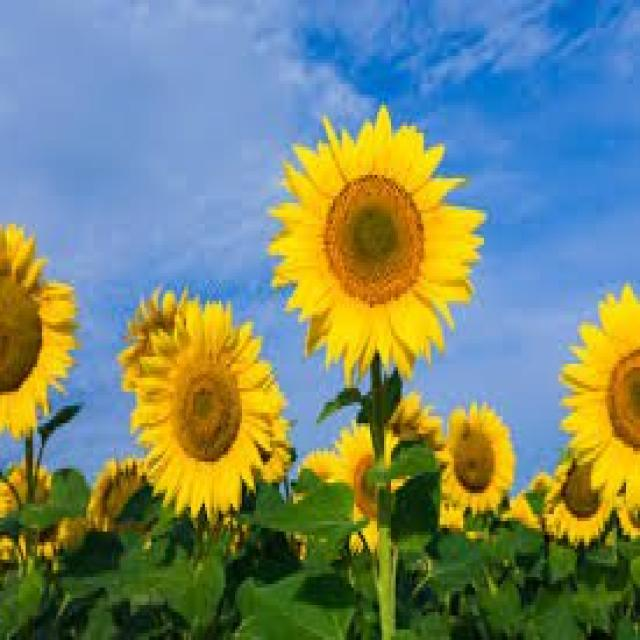sunflower: (257, 105, 490, 402), (114, 299, 286, 526), (554, 276, 640, 521), (0, 227, 88, 447), (433, 404, 524, 526)
